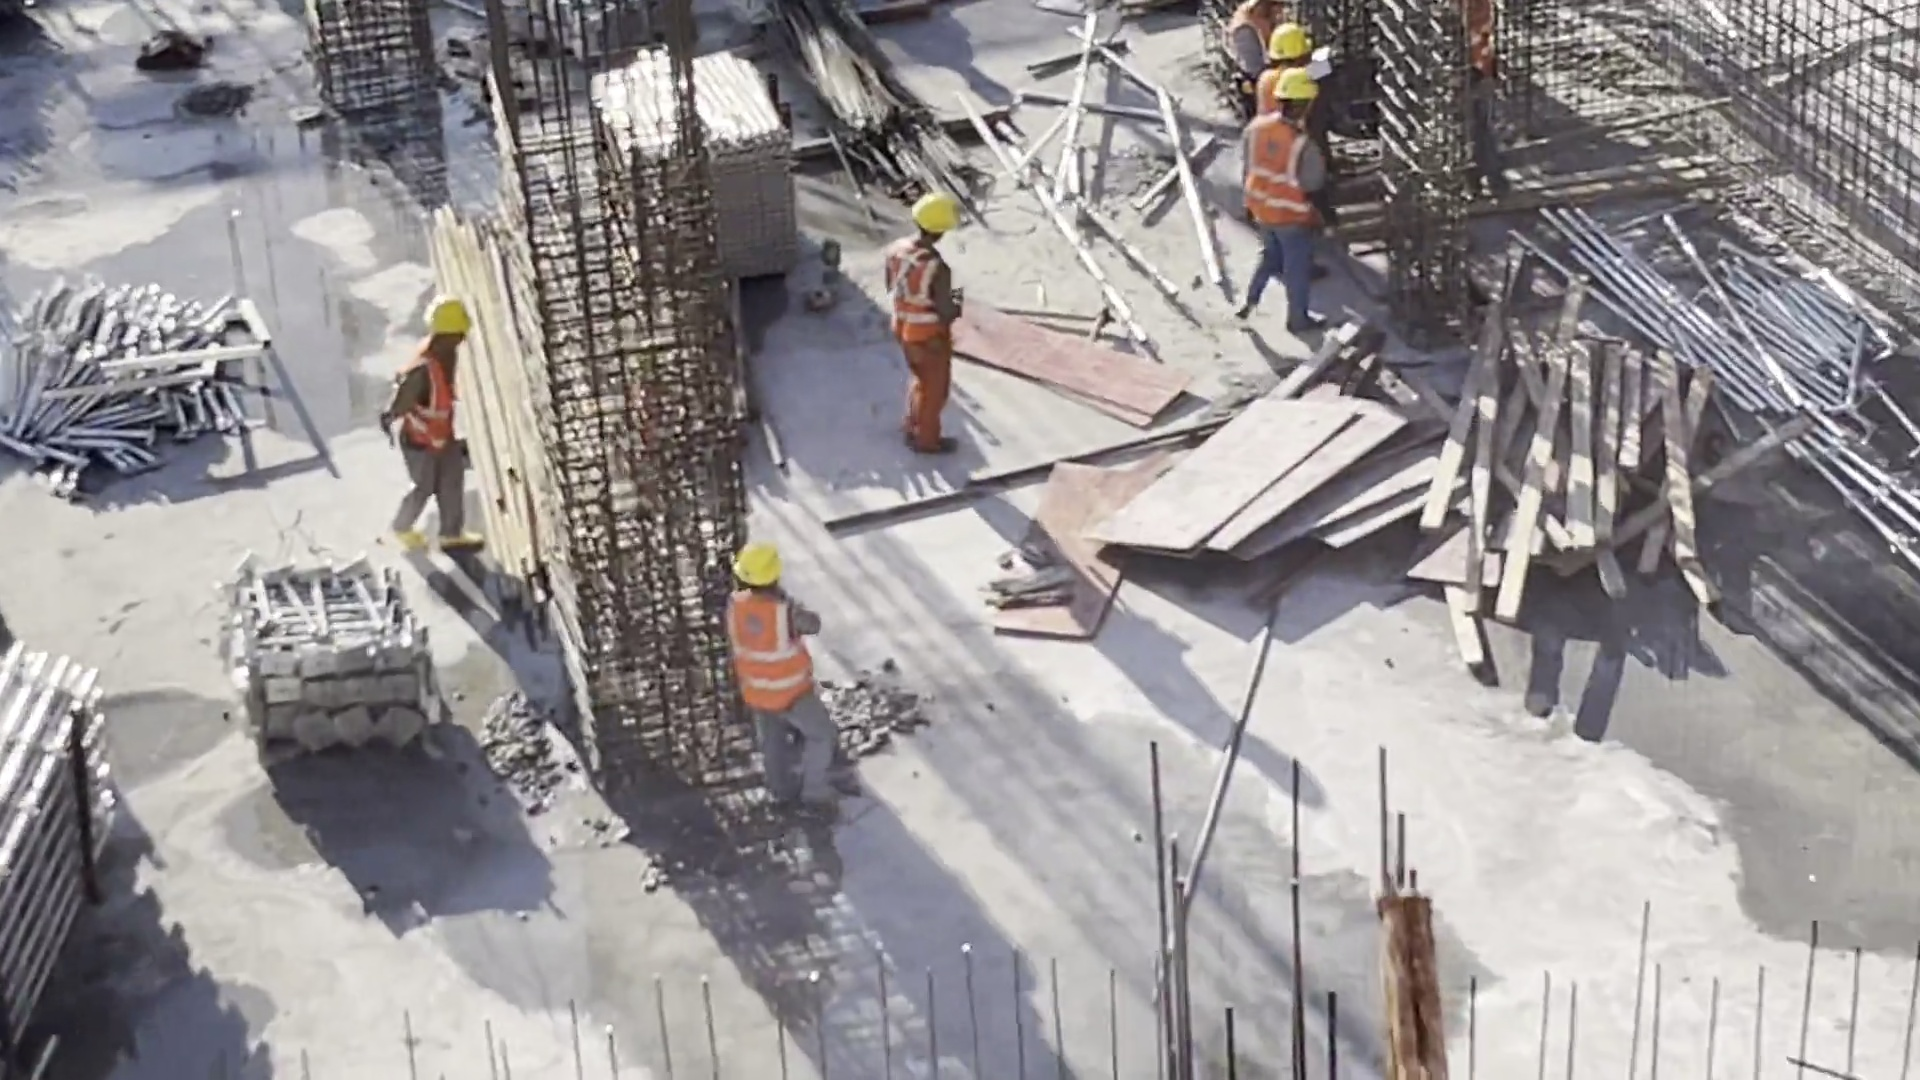helmet: (1259, 28, 1324, 102), (723, 540, 788, 588), (905, 194, 967, 239), (418, 293, 471, 338)
person: (725, 539, 847, 818), (372, 290, 490, 559), (1239, 72, 1333, 340), (877, 194, 961, 456), (1207, 1, 1322, 89), (1460, 19, 1509, 176)
vest: (723, 591, 816, 710), (1241, 110, 1321, 230), (388, 351, 460, 463), (877, 237, 946, 353)
